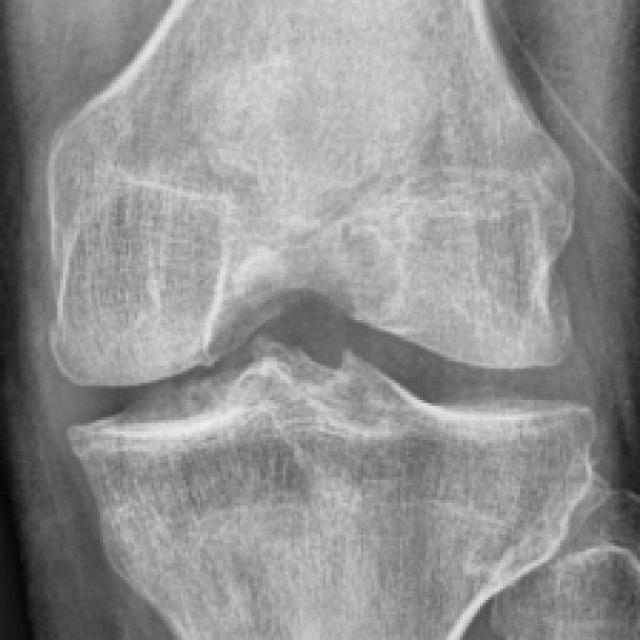femur: (48, 1, 576, 387)
tibia: (68, 346, 597, 640)
